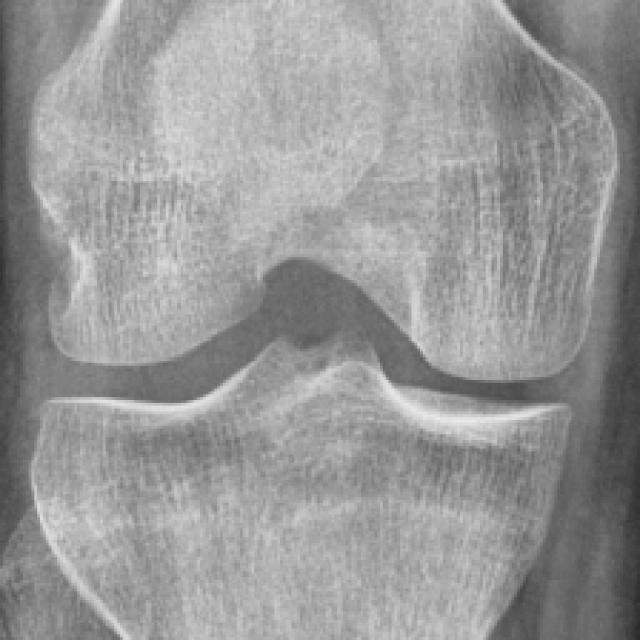femur: (34, 1, 611, 377)
tibia: (34, 336, 566, 637)
